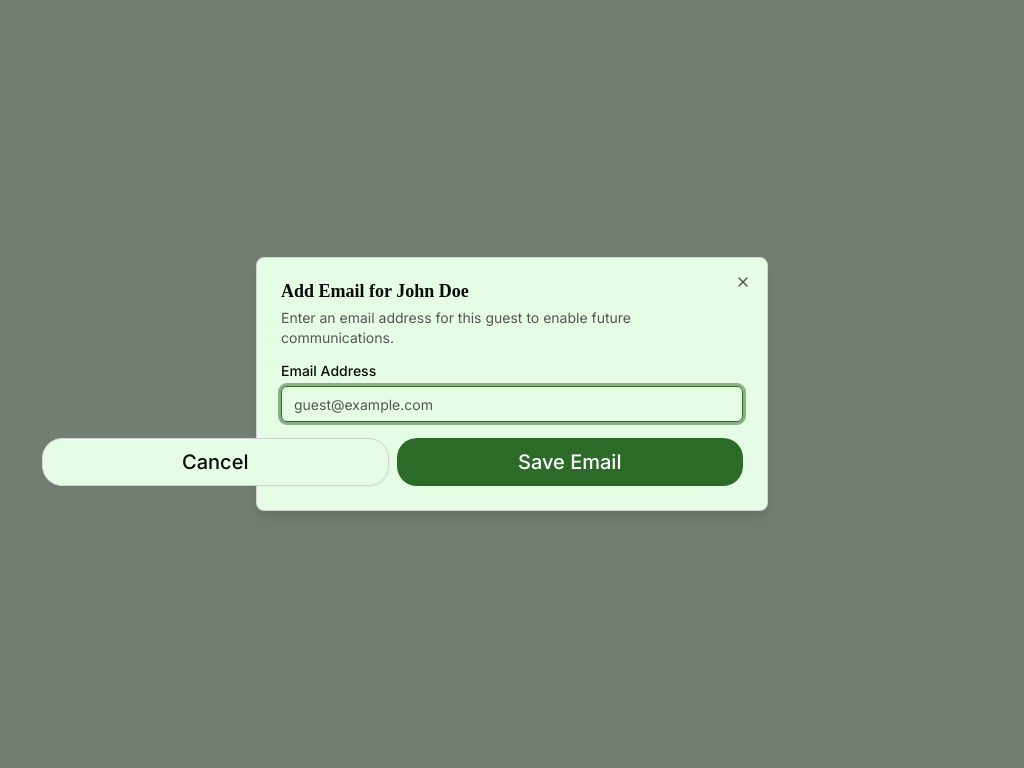
AddEmailModal › duplicate handling UI › shows link user option when duplicate user is found
This screenshot has width=1024, height=768.
Type "existing@example.com" into the field with test id "email-input".
click(512, 404); type("existing@example.com")  # box [281, 386, 743, 422]
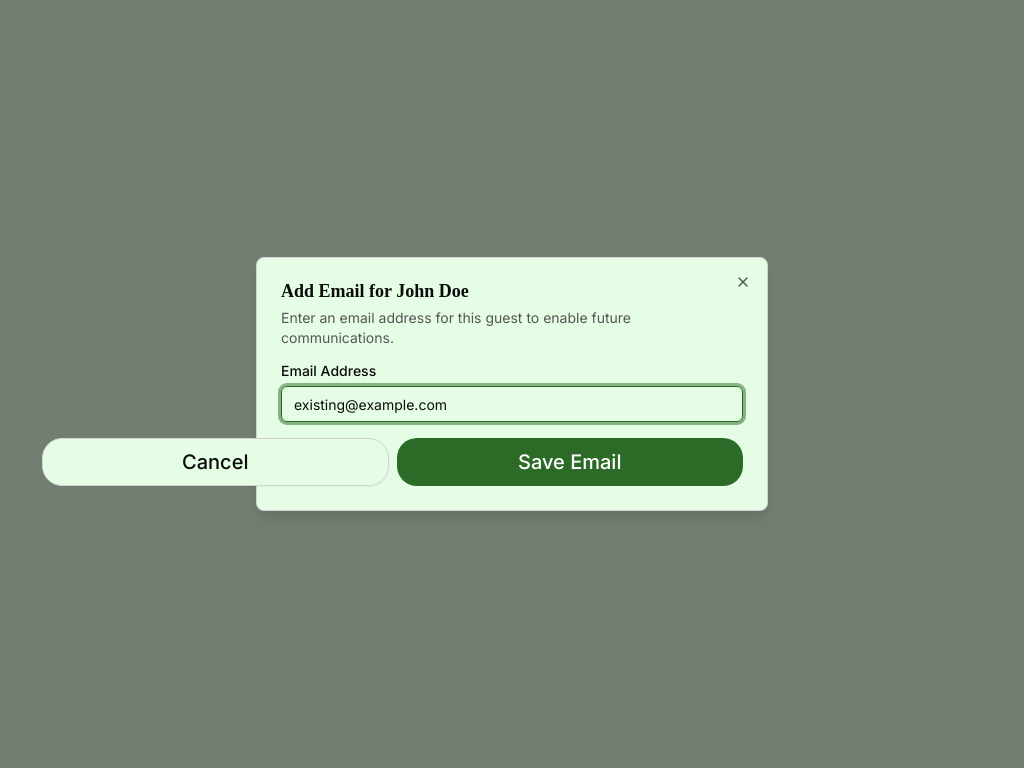
Click the button with test id "submit-email-button".
click(570, 462)  # box [396, 438, 743, 486]
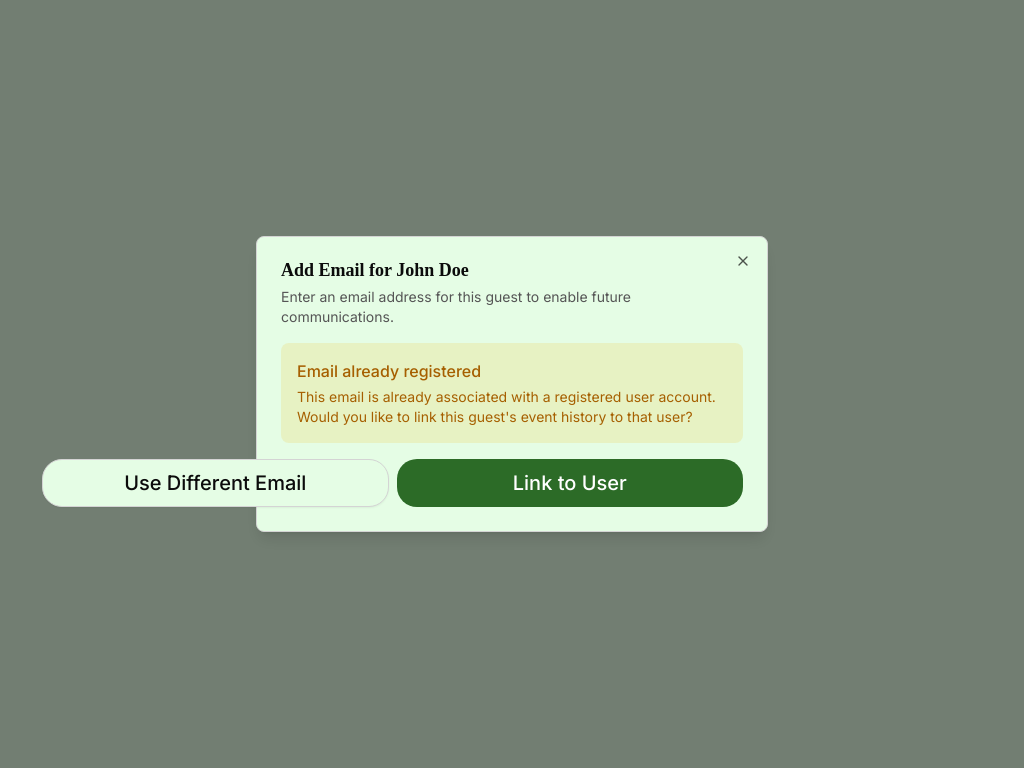
Now the element with test id "duplicate-user-warning" is shown, box [281, 343, 743, 443]
Now the button with test id "link-user-button" is shown, box [396, 459, 743, 507]
